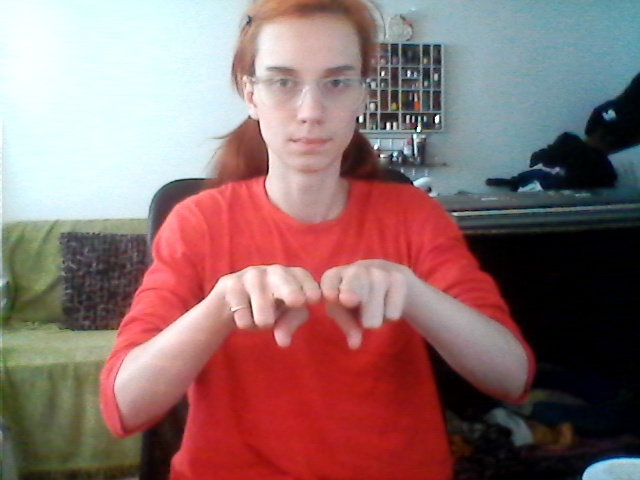brat: (223, 247, 414, 363)
